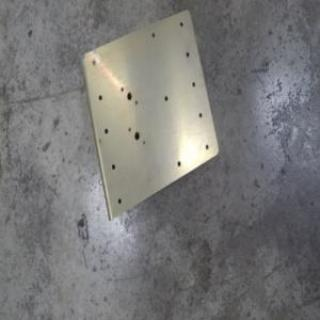MetalSheettrack_idkeyframe: (77, 5, 219, 223)
